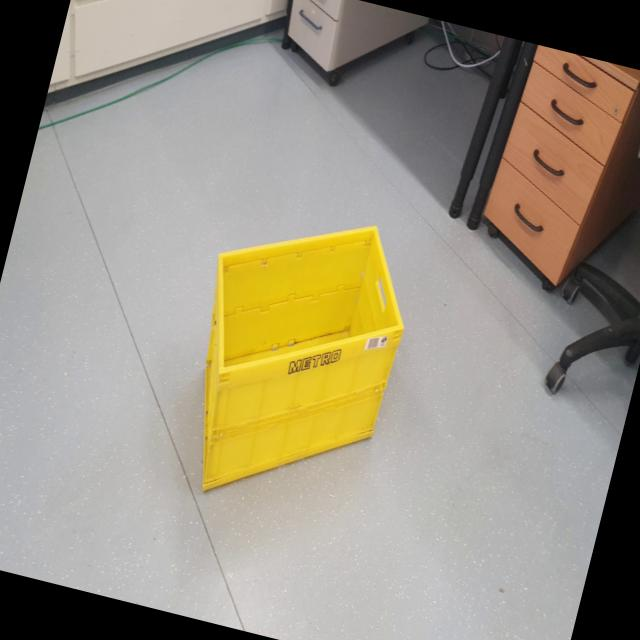box: (125, 146, 450, 576)
